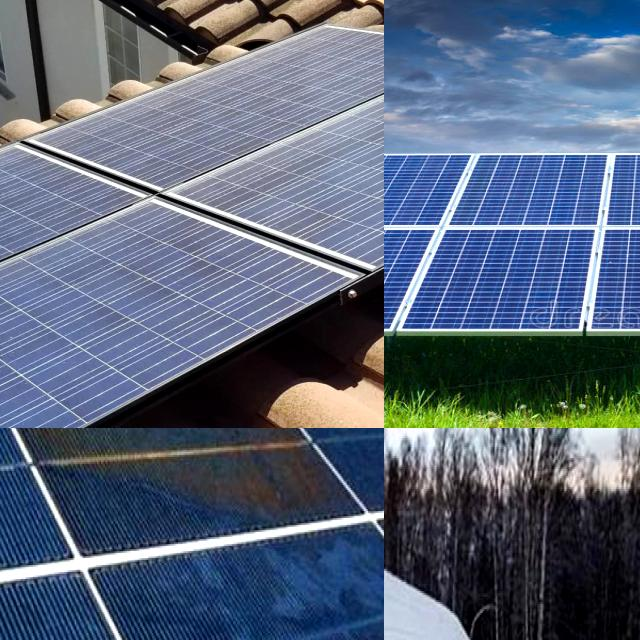crack: (522, 213, 640, 335), (449, 156, 630, 235), (579, 153, 640, 238)
dust: (176, 74, 384, 208), (26, 235, 212, 362), (0, 267, 63, 428), (0, 164, 72, 259)
panel: (384, 480, 445, 640), (384, 428, 451, 529), (414, 599, 498, 640), (384, 464, 437, 525), (384, 571, 427, 640), (384, 563, 435, 614)
shadow: (0, 428, 316, 555)
